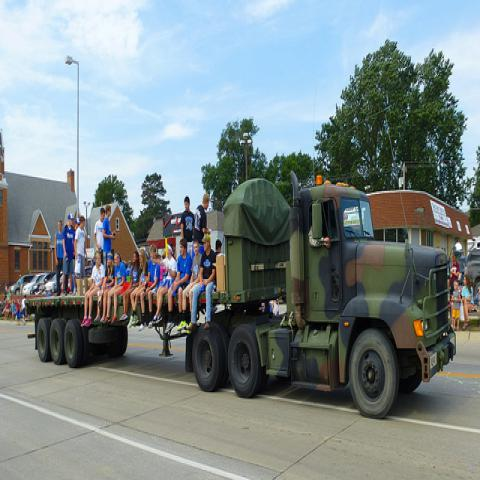car: (464, 249, 480, 296), (30, 272, 56, 294), (7, 274, 34, 295), (22, 273, 46, 295), (44, 274, 56, 295)
truck: (24, 175, 458, 420)
